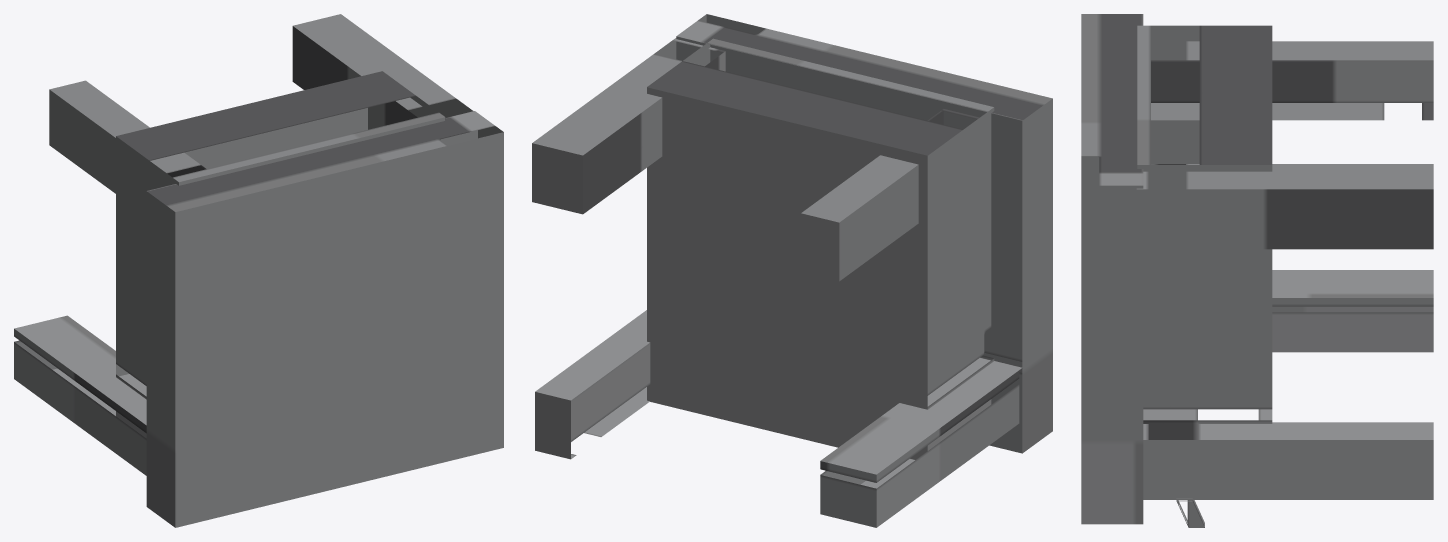
3 renders of one model, left to right at view 1: azimuth 30°, elevation 25°; view 2: azimuth 150°, elevation 25°; view 3: azimuth 270°, elevation 25°, orthographic. The views are drawn at different scales.
Size of the model in its own units: 0.6427 by 0.5933 by 0.5508.
